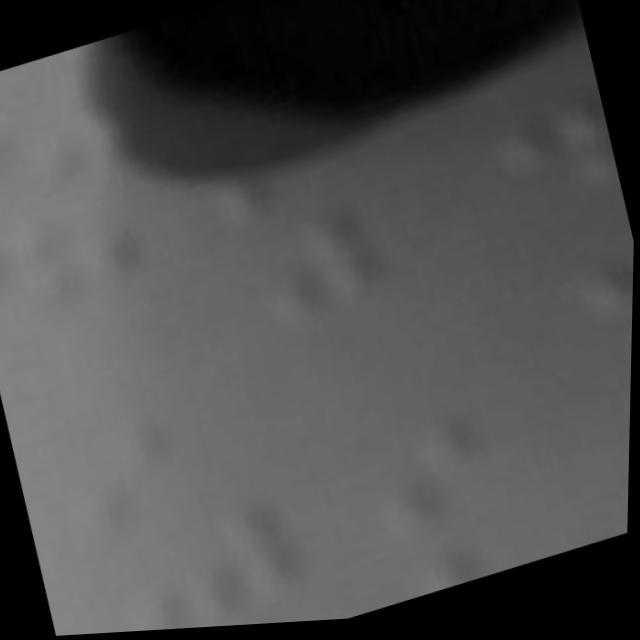braiile: (52, 391, 278, 552), (241, 168, 464, 328), (351, 388, 578, 545), (111, 497, 324, 634), (478, 73, 623, 225), (416, 507, 624, 601), (562, 205, 636, 337), (613, 333, 634, 448)
